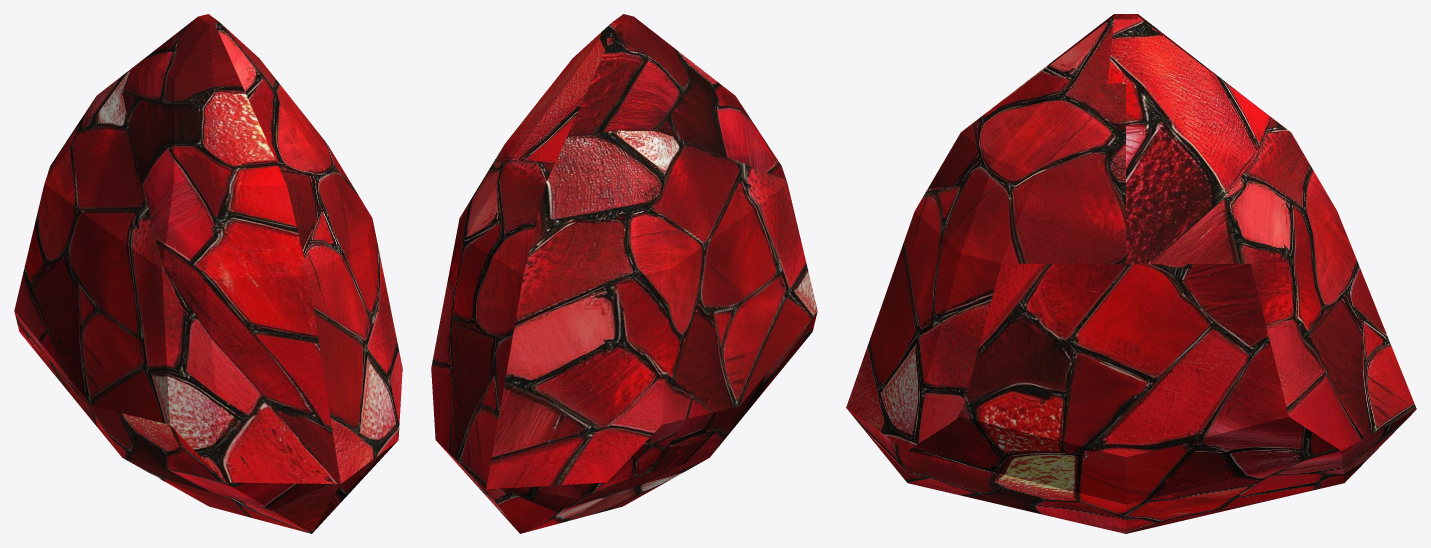
File: gemstone5RedCompressed.glb
3 views of the same model, side by side, from view 1: azimuth 30°, elevation 25°; view 2: azimuth 150°, elevation 25°; view 3: azimuth 270°, elevation 25° (orthographic). The views are drawn at different scales.
Parts seen in each view (by area): view 1: gemstone4; view 2: gemstone4; view 3: gemstone4.
Part boxes in pixels (x1,y1,x2,y2): gemstone4: (14,14,402,533); gemstone4: (431,14,817,533); gemstone4: (846,14,1416,533).
Bounding box in the file's own units: 0.5 × 1 × 1.
Materials: 1 (1 with a texture image).
